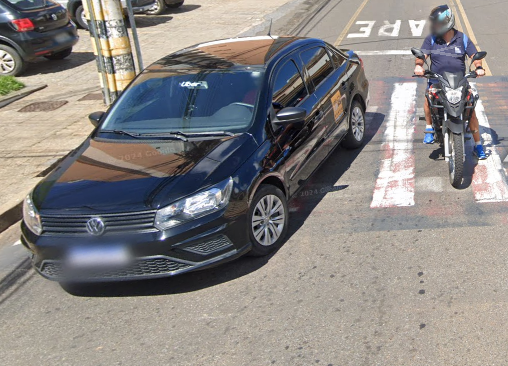car: (20, 16, 381, 288)
